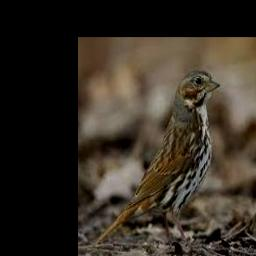Sparrow: (94, 70, 221, 245)
